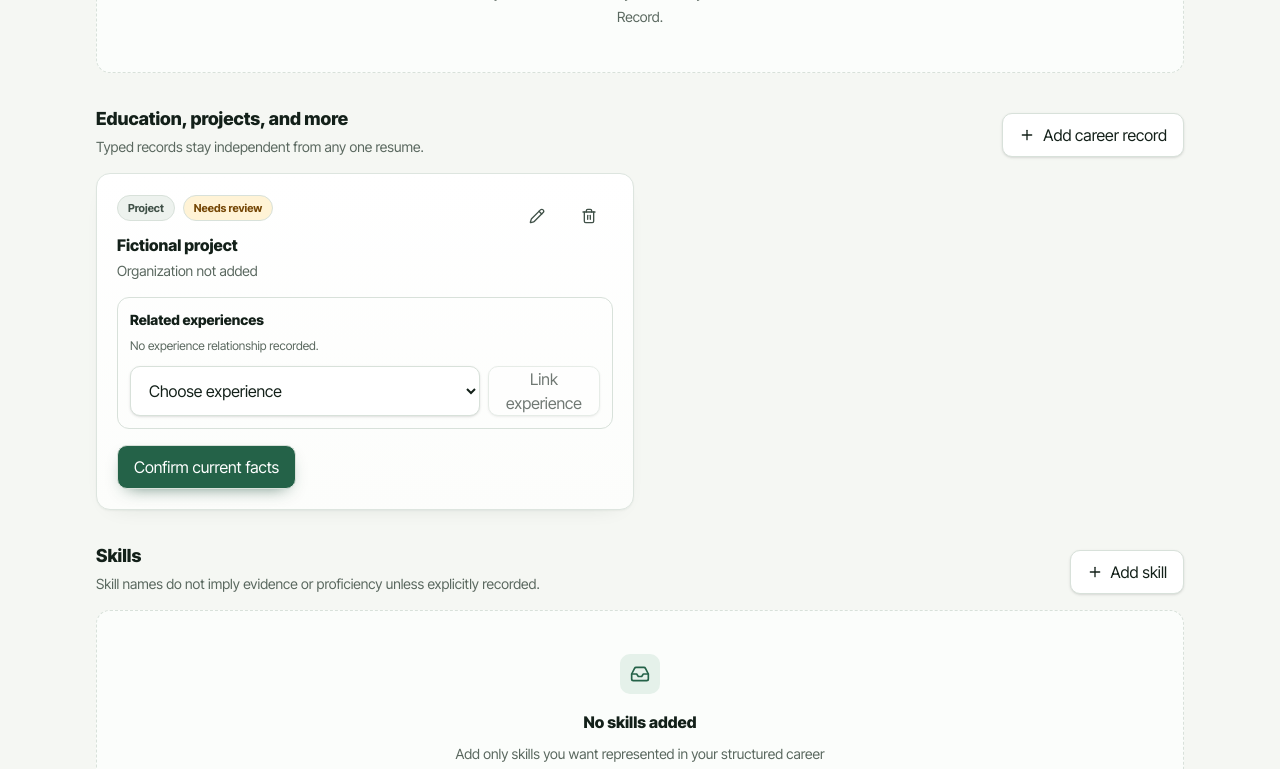
Test: Career Profile vertical slice › records an explicit experience-project relationship
(page scrolled)
Expected: the heading "Fictional project" is shown, [117,234,238,254]
Select "Engineer at Fictional Co" in the dropdown named "Experience to link to Fictional project". click: (305, 390)
box: [130,366,480,416]
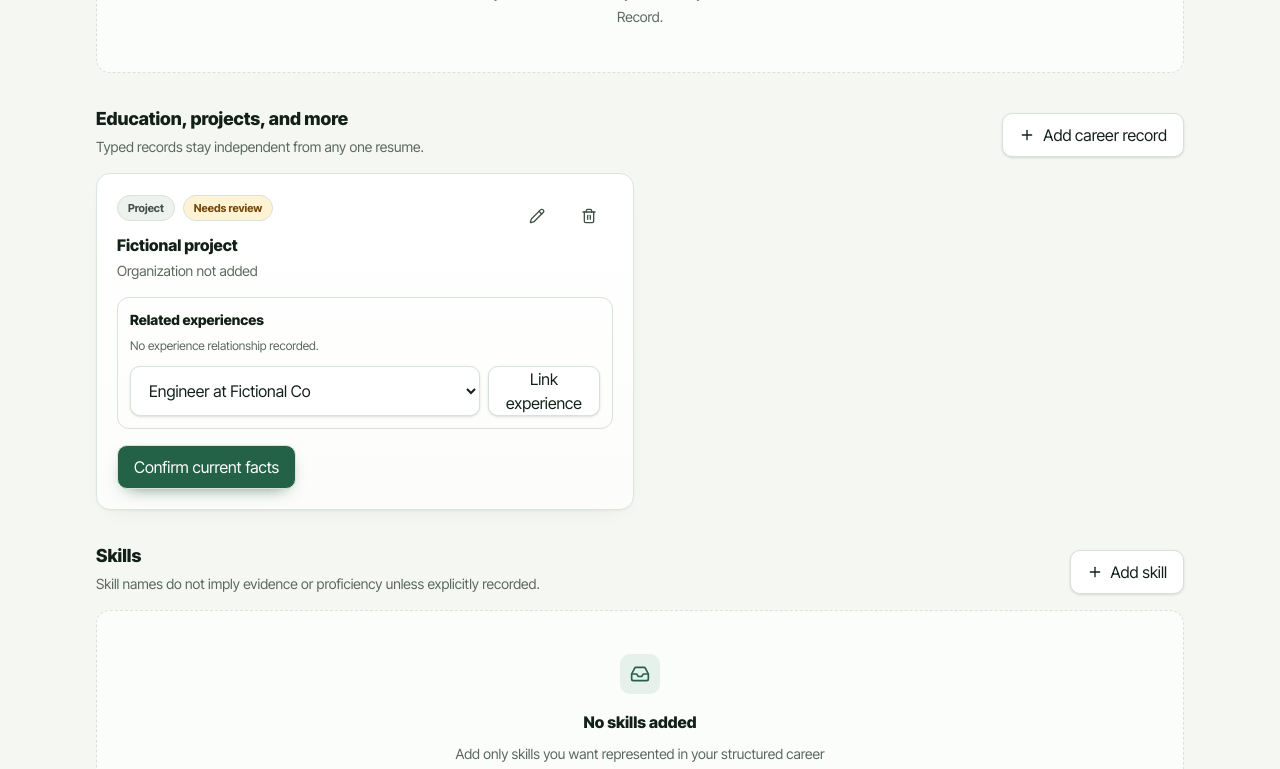
Click the button "Link experience". click: (544, 390)
box: [488,366,600,416]
(page scrolled)
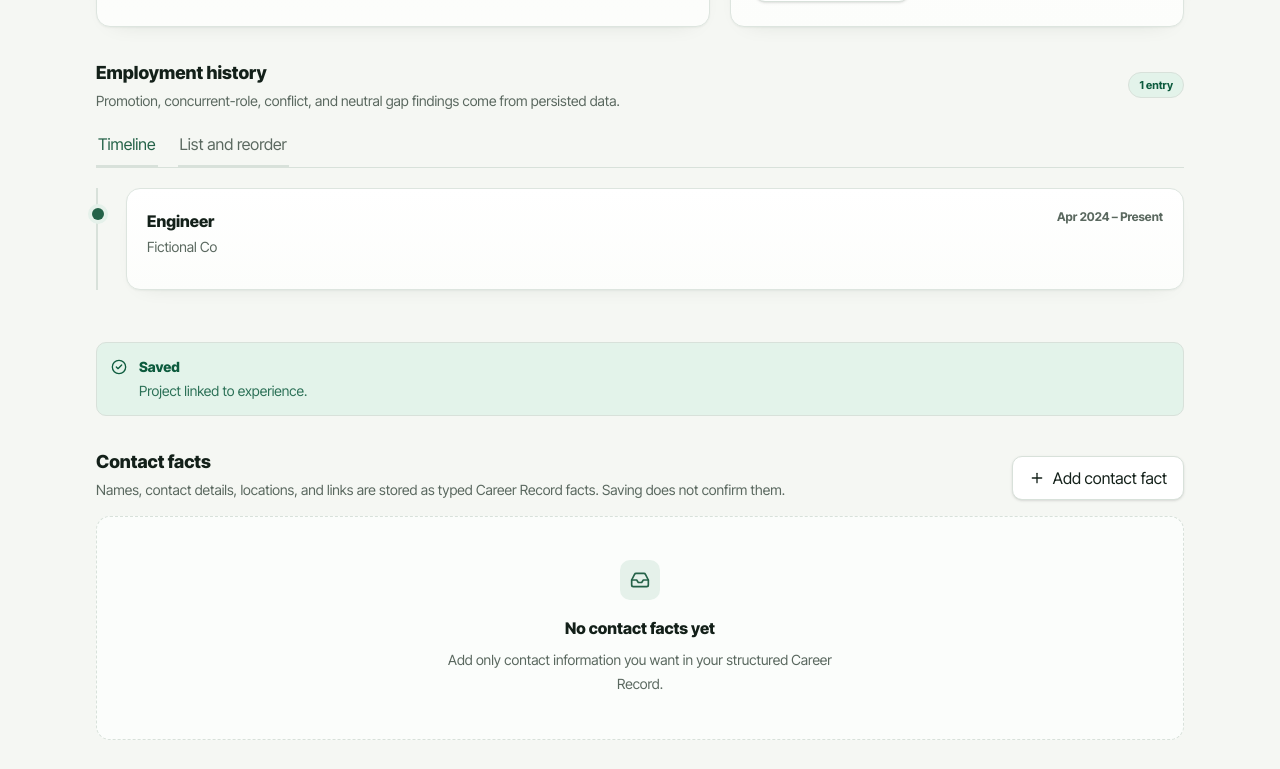
Expected: the text "Project linked to experience." is shown, [139,380,307,400]
